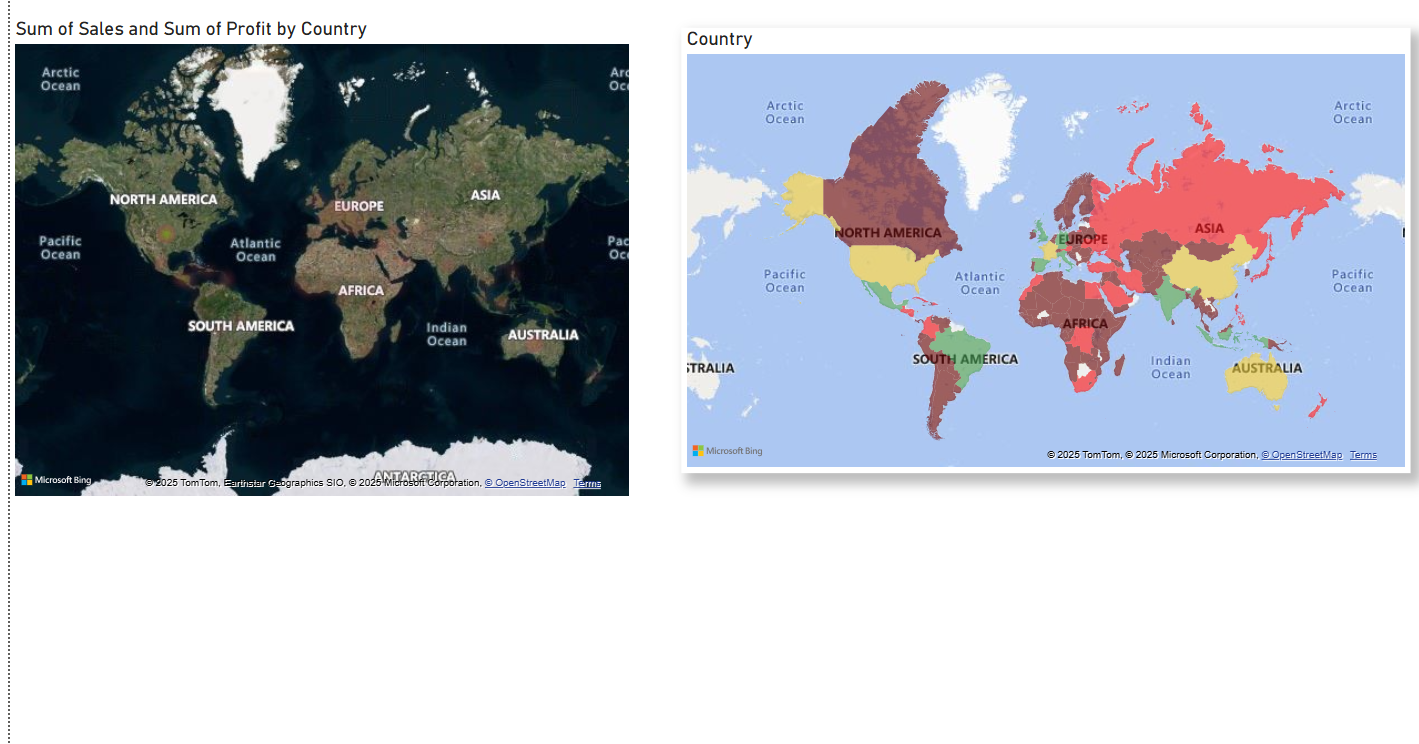

What the dashboard file says about the page in this screenshot:
{"tool":"powerbi","page":{"name":"mail 4","canvas":[1280,720],"ordinal":1},"visuals":[{"type":"map","fields":{"Category":["Orders.Country"],"Size":["Sum(Orders.Sales)"]},"box":[0,35,562.5,436.2],"z":0},{"type":"filledMap","fields":{"Category":["Orders.Country"]},"box":[605,43.8,657.5,401.2],"z":1}]}

Visuals, with their boxes in screenshot pixels (x1, y1, x2, y2):
map - Orders.Country x Sum(Orders.Sales): locate(7, 36, 580, 479)
filledMap - Orders.Country: locate(623, 45, 1292, 453)
